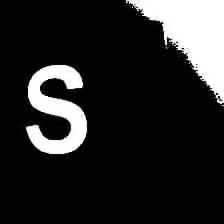LTR_S: (18, 63, 91, 155)
